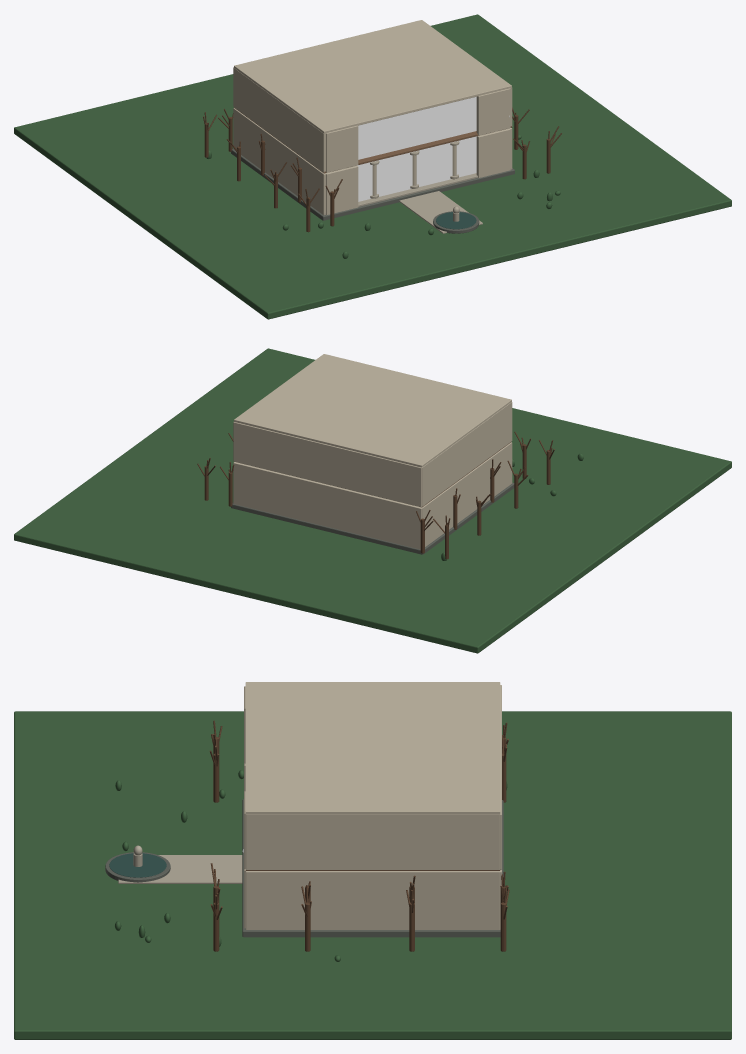
File: manoir_abandonne.glb
3 views of the same model, one above another, from view 1: azimuth 30°, elevation 25°; view 2: azimuth 150°, elevation 25°; view 3: azimuth 270°, elevation 25° (orthographic). The views are drawn at different scales.
Parts seen in each view (by area): view 1: Terrain envahi par les herbes, Plafond haut, Volume de brouillard interieur, Mur lateral haut, Mur lateral bas, Fondation en pierre, Facade avant aile.001, Facade avant etage.001, Facade avant etage, Facade avant aile, Chemin dalles fissure, Sol etage (+2 smaller); view 2: Terrain envahi par les herbes, Plafond haut, Mur arriere bas, Mur arriere haut, Mur lateral haut, Mur lateral bas, Fondation en pierre; view 3: Terrain envahi par les herbes, Plafond haut, Mur lateral bas.001, Mur lateral haut.001, Fondation en pierre, Chemin dalles fissure, Eau fontaine.
Part boxes in pixels (x1,y1,x2,y2): Terrain envahi par les herbes: (14,14,731,319); Plafond haut: (234,20,511,133); Volume de brouillard interieur: (357,97,476,201); Mur lateral haut: (233,68,325,172); Mur lateral bas: (233,108,325,215); Fondation en pierre: (231,149,514,220); Facade avant aile.001: (476,128,510,177); Facade avant etage.001: (476,88,510,135); Facade avant etage: (326,125,358,172); Facade avant aile: (326,165,358,215); Chemin dalles fissure: (399,191,482,233); Sol etage: (234,107,511,173); Terrain envahi par les herbes: (14,348,731,653); Plafond haut: (234,354,511,467); Mur arriere bas: (233,462,422,549); Mur arriere haut: (233,422,421,507); Mur lateral haut: (422,402,512,506); Mur lateral bas: (422,442,512,546); Fondation en pierre: (231,482,514,554); Terrain envahi par les herbes: (14,711,731,1039); Plafond haut: (245,682,500,814); Mur lateral bas.001: (245,871,500,929); Mur lateral haut.001: (245,814,500,869); Fondation en pierre: (242,799,503,937); Chemin dalles fissure: (118,855,242,883); Eau fontaine: (109,853,166,877).
Bounding box in the file's own units: 58 × 11.3 × 55.
